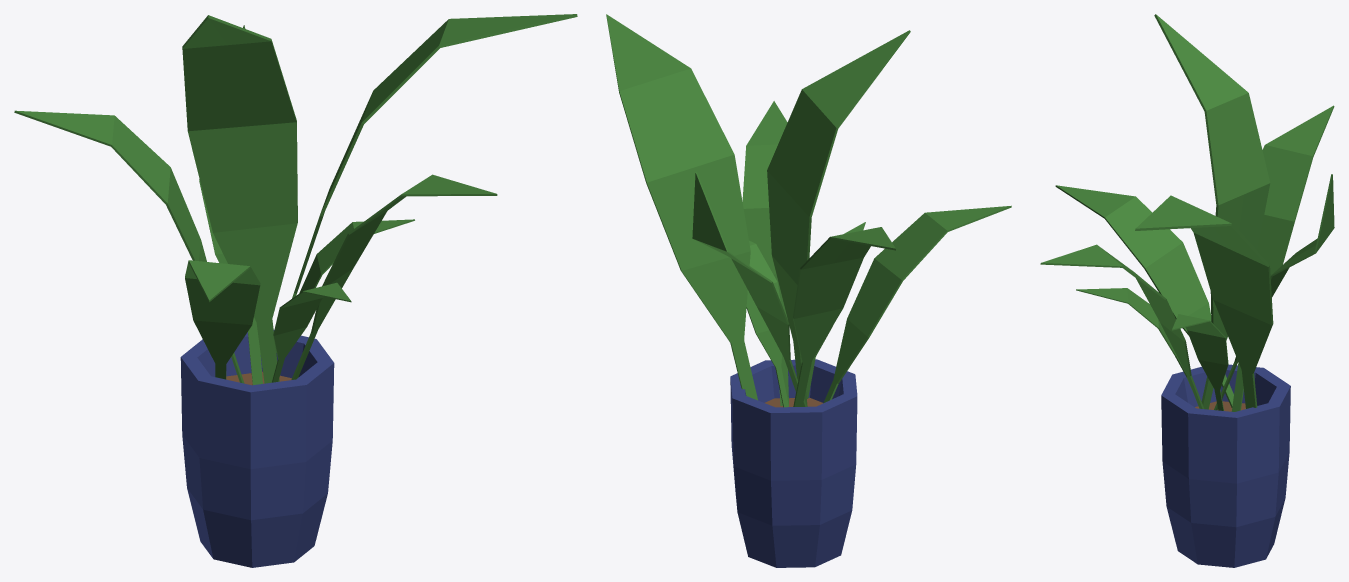
Rendered from Flower_1.fbx.
3 views of the same model, side by side, from view 1: azimuth 30°, elevation 25°; view 2: azimuth 150°, elevation 25°; view 3: azimuth 270°, elevation 25° (orthographic). The views are drawn at different scales.
Parts seen in each view (by area): view 1: Flower_1; view 2: Flower_1; view 3: Flower_1.
Part boxes in pixels (<box>): Flower_1: <box>14,14,577,567</box>; Flower_1: <box>606,14,1011,567</box>; Flower_1: <box>1040,14,1334,567</box>.
Bounding box in the file's own units: 161 × 108 × 200.
